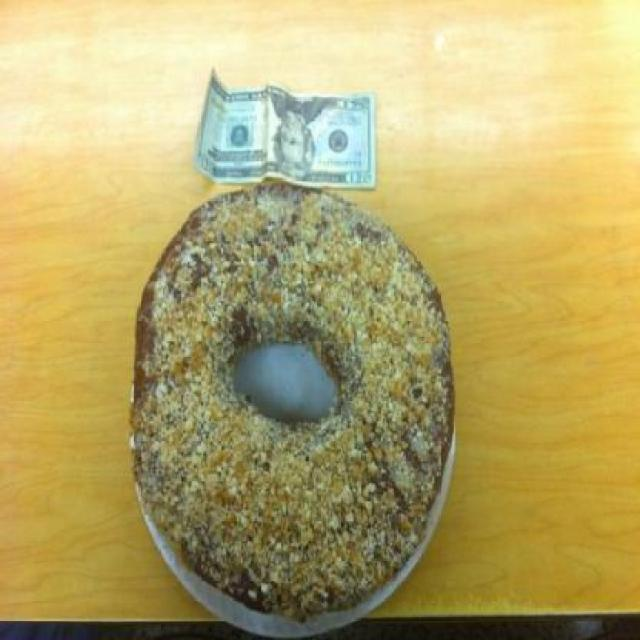Donuts: (118, 180, 464, 634)
